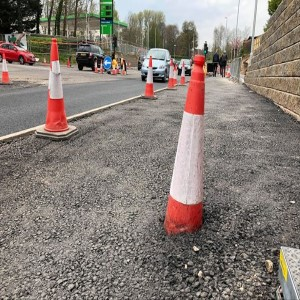traffic cone: (162, 54, 206, 235), (34, 37, 78, 142), (138, 55, 158, 100), (1, 52, 14, 86), (164, 58, 176, 91), (177, 58, 186, 86)
